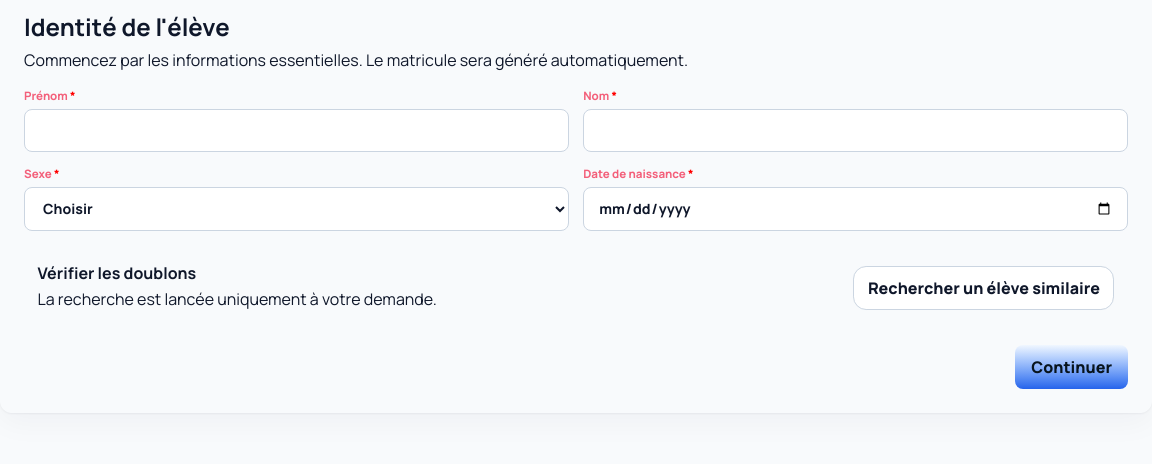
Test case: admission student step › valide les champs minimum d'une nouvelle admission avant de continuer
Click the button "Continuer" at (1072, 367), box [1015,345,1128,389]
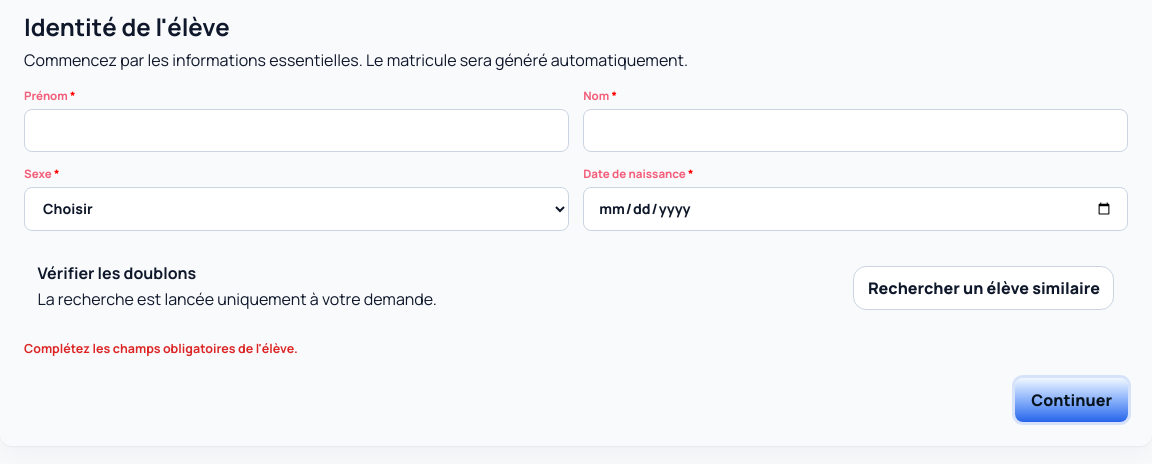
Expected: the message reads "Complétez les champs obligatoires de l'élève.", [24,340,298,357]
